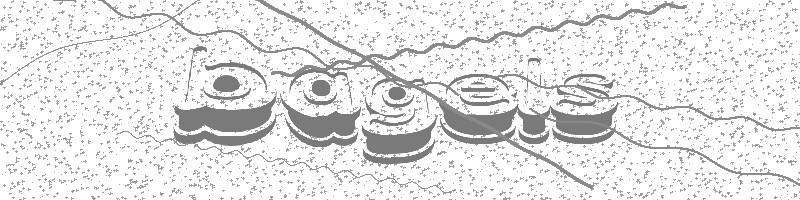a: (279, 70, 361, 148)
b: (173, 45, 279, 148)
e: (440, 73, 519, 146)
g: (362, 76, 438, 166)
l: (517, 57, 550, 147)
s: (549, 72, 618, 145)
